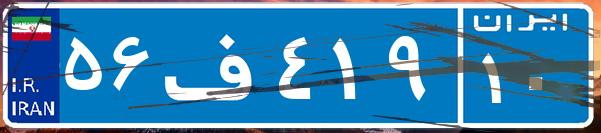0: (525, 38, 570, 115)
1: (330, 28, 385, 110), (475, 38, 525, 113)
4: (273, 28, 330, 110)
5: (57, 26, 110, 107)
6: (110, 28, 158, 105)
9: (385, 28, 445, 110)
ف: (158, 15, 273, 115)
